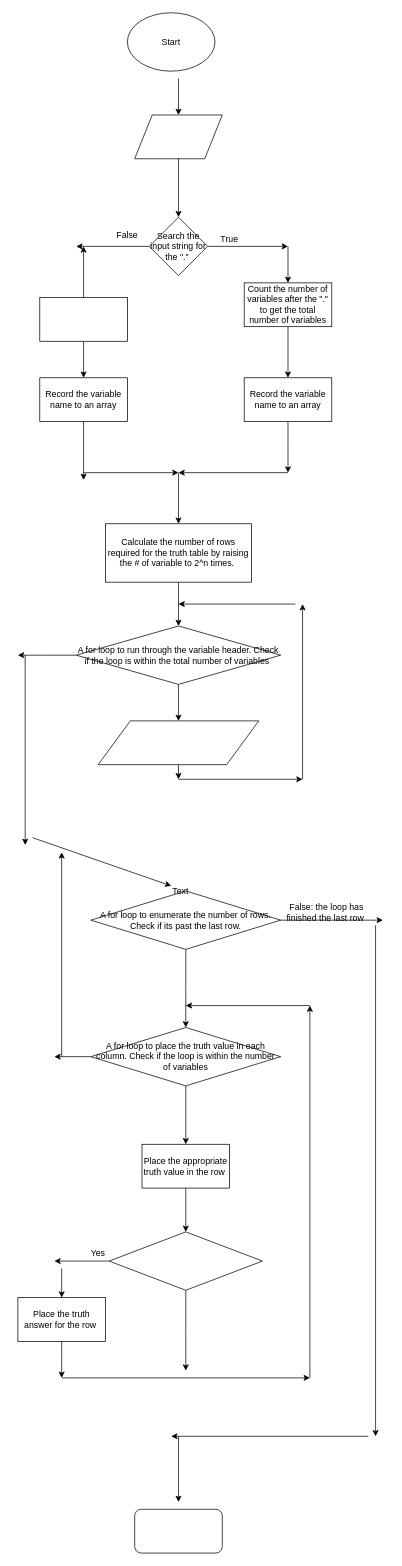
Some shapes in this 402 by 1566 pixel diagram are drawn without their labels. The centre of each missing label's shape, as x and y in pixels:
Check if the loop is at the last element of the row.: (185,1260)
Count the number of variables after the "+" to get the total number of variables: (83,319)
End: (178,1531)
Get Input on the desired truth table: (178,136)
Output the variable name, within the current location of the array: (178,742)
